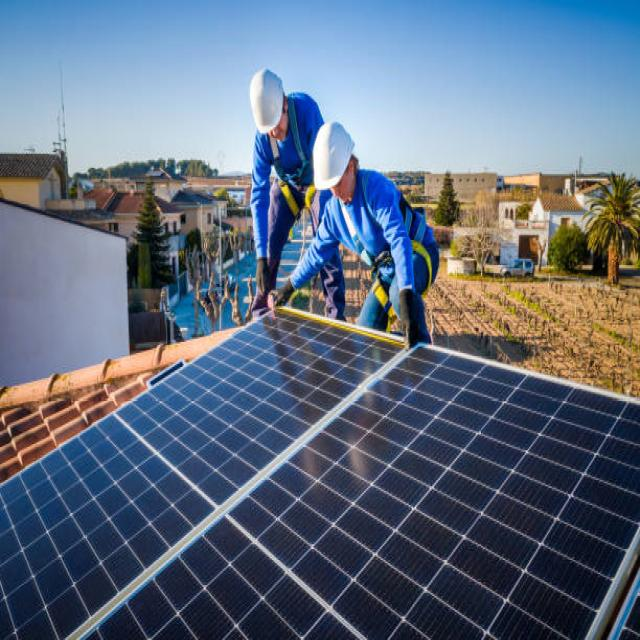Gloves: (392, 287, 428, 353), (269, 276, 295, 312), (253, 254, 272, 296)
helmet: (312, 118, 357, 192), (248, 66, 286, 135)
person: (269, 120, 443, 353), (247, 67, 351, 323)
